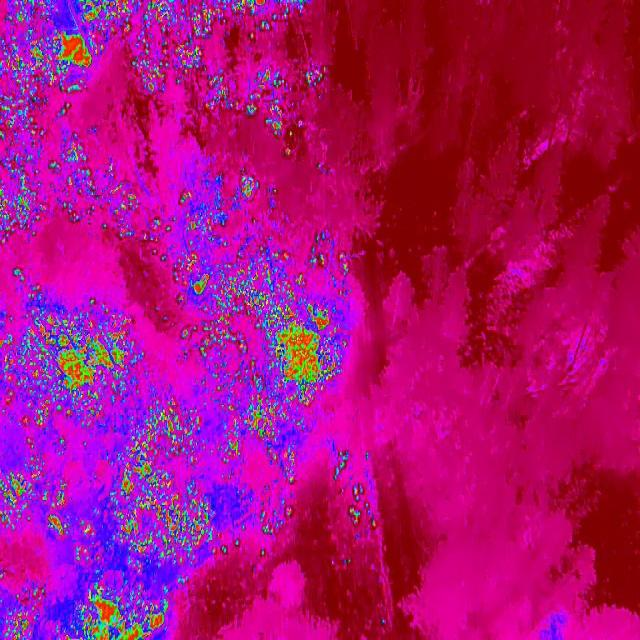fire: (172, 252, 344, 456), (0, 267, 141, 428), (112, 401, 221, 573), (0, 143, 139, 242), (154, 174, 256, 274), (0, 28, 114, 100), (0, 434, 70, 544), (113, 0, 315, 35), (54, 582, 173, 640), (331, 447, 388, 538), (250, 452, 306, 539), (128, 34, 208, 94), (242, 65, 302, 140), (307, 232, 350, 290), (0, 587, 45, 640), (0, 103, 47, 151), (203, 68, 240, 113), (72, 0, 123, 29), (2, 1, 56, 27), (301, 60, 332, 90), (72, 542, 90, 568), (80, 520, 98, 540)
